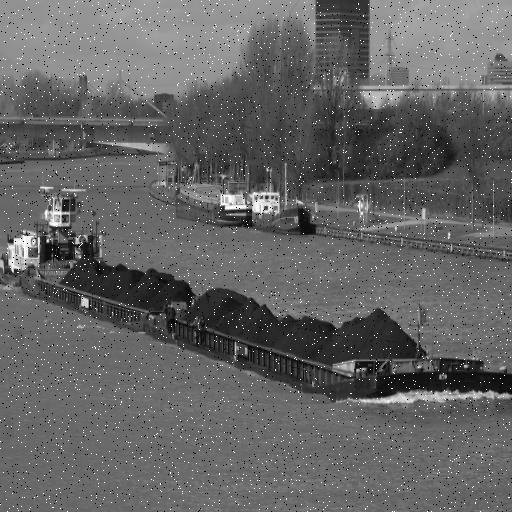tugboat: (1, 179, 110, 304)
